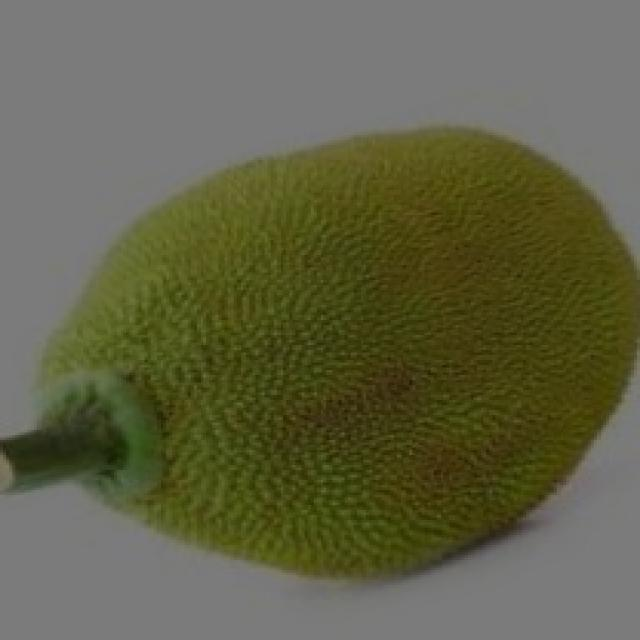Fruit: (234, 98, 640, 408)
